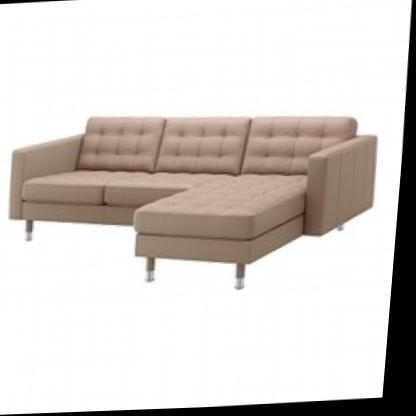Sofa: (0, 91, 389, 306)
